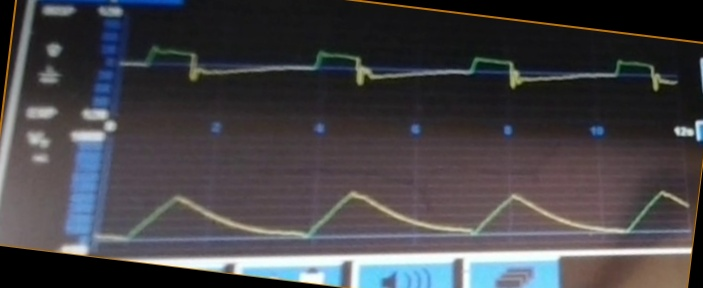Premature_cycling Flow: (122, 42, 677, 117)
Premature_cycling Volume: (105, 185, 692, 247)
